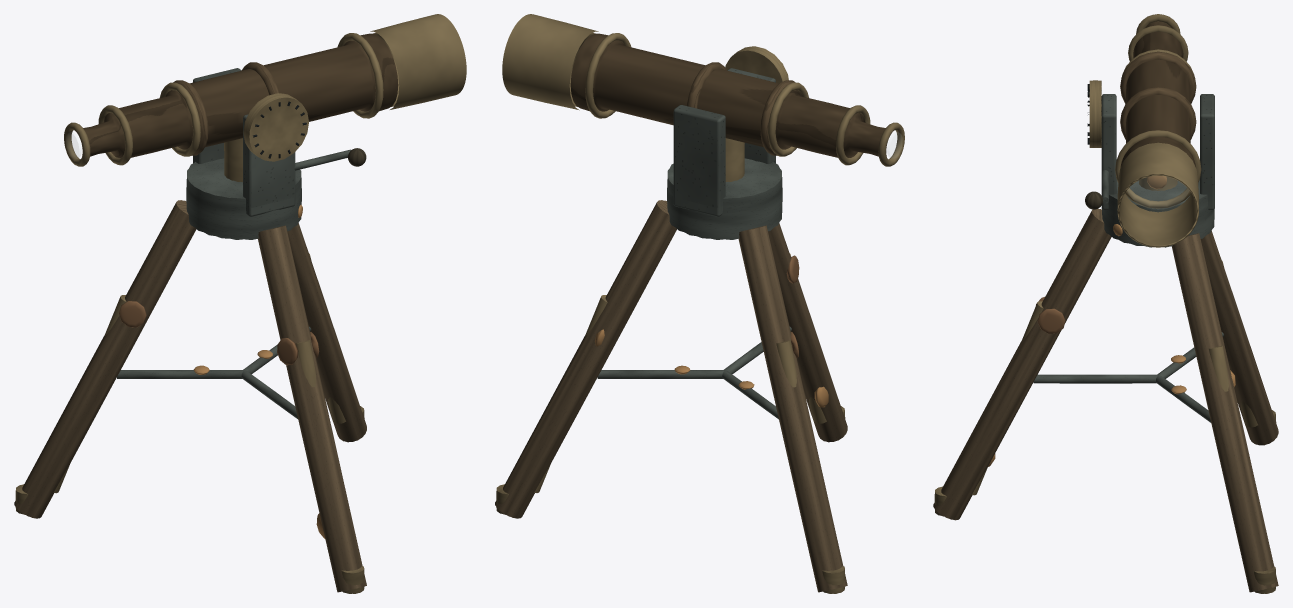
The picture shows the model from 3 angles, left to right: view 1: azimuth 30°, elevation 25°; view 2: azimuth 150°, elevation 25°; view 3: azimuth 270°, elevation 25°; orthographic projection. The views are drawn at different scales.
Parts seen in each view (by area): view 1: worn timber edges, aged brass fittings (×2), oiled dark leather, forged iron (×2), drawbore peg, waxed leather; view 2: worn timber edges, oiled dark leather, forged iron (×2), aged brass fittings (×2), waxed leather; view 3: worn timber edges, aged brass fittings (×2), forged iron (×2), oiled dark leather, waxed leather, blown glass, drawbore peg.
Part boxes in pixels (left/top/right/bottom): worn timber edges: left=14, top=200, right=366, bottom=592; aged brass fittings (×2): left=15, top=14, right=466, bottom=593; oiled dark leather: left=74, top=33, right=398, bottom=157; forged iron (×2): left=117, top=68, right=351, bottom=419; drawbore peg: left=119, top=301, right=319, bottom=365; waxed leather: left=173, top=62, right=279, bottom=155; worn timber edges: left=495, top=200, right=847, bottom=592; oiled dark leather: left=570, top=33, right=892, bottom=157; forged iron (×2): left=597, top=68, right=791, bottom=419; aged brass fittings (×2): left=496, top=14, right=904, bottom=593; waxed leather: left=687, top=62, right=795, bottom=155; worn timber edges: left=933, top=209, right=1278, bottom=592; aged brass fittings (×2): left=934, top=14, right=1276, bottom=593; forged iron (×2): left=1033, top=94, right=1223, bottom=422; oiled dark leather: left=1120, top=21, right=1195, bottom=167; waxed leather: left=1120, top=51, right=1196, bottom=139; blown glass: left=1127, top=176, right=1188, bottom=209; drawbore peg: left=1036, top=297, right=1065, bottom=333.
Size of the model in its own units: 0.5624 by 0.6455 by 0.4568.
10 materials, 6 textured.
